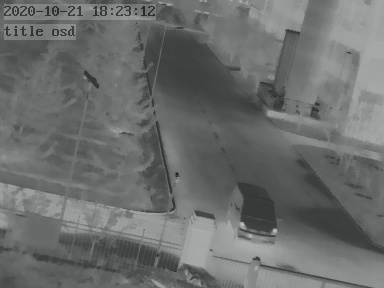vehicle: (229, 182, 282, 246)
